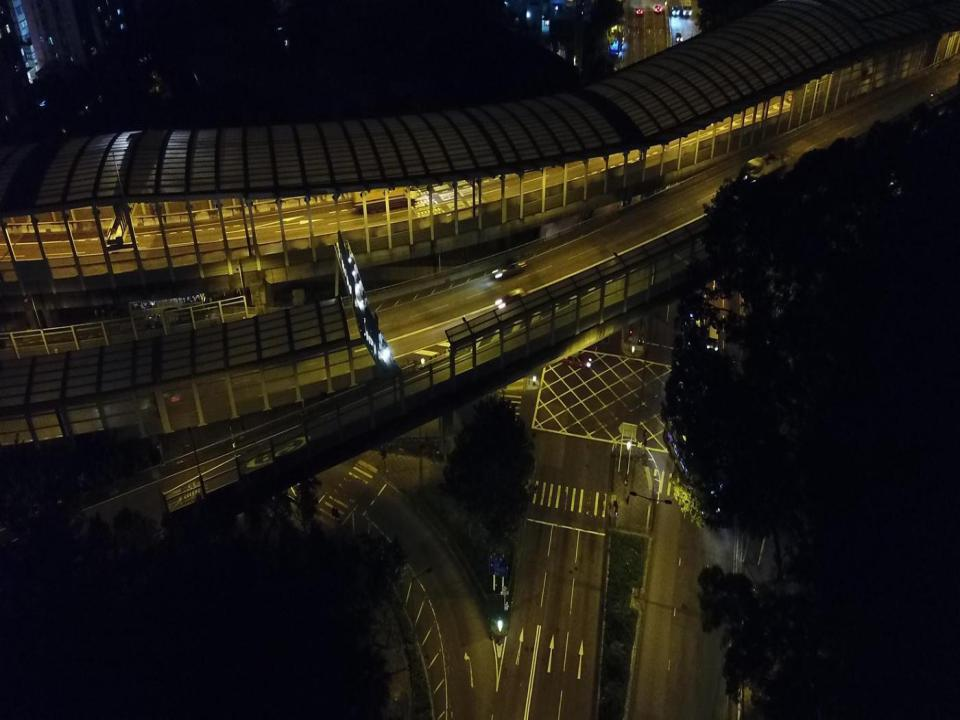car: (496, 287, 534, 308), (494, 256, 528, 279), (560, 351, 592, 369), (675, 31, 683, 43), (672, 4, 680, 16), (635, 6, 644, 16), (654, 4, 663, 14)
truck: (351, 171, 420, 215), (743, 148, 786, 186), (682, 0, 692, 16)
